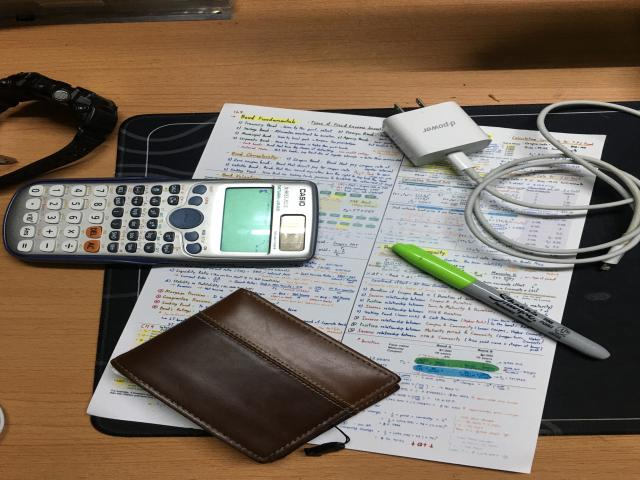Pen: (392, 244, 610, 359)
Wallet: (112, 289, 400, 463)
Watch: (0, 72, 118, 186)
paper: (83, 104, 609, 472)
wire: (383, 101, 640, 263)
